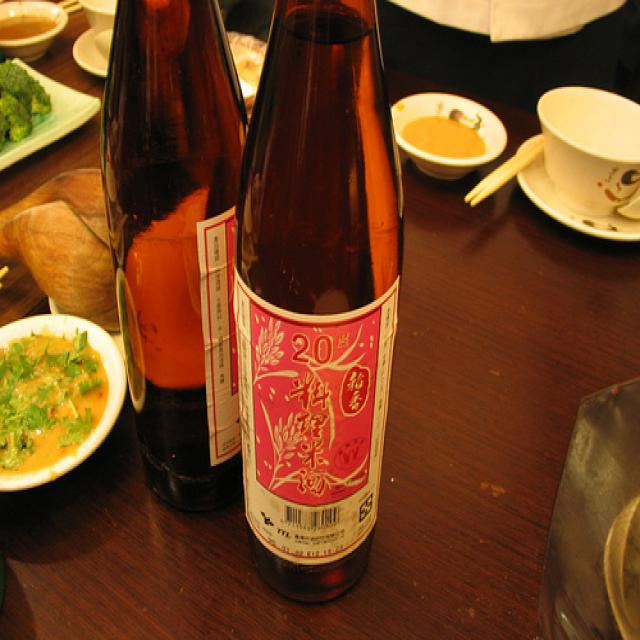bottle: (233, 1, 409, 605), (96, 1, 272, 520)
diningtable: (1, 1, 639, 639)
